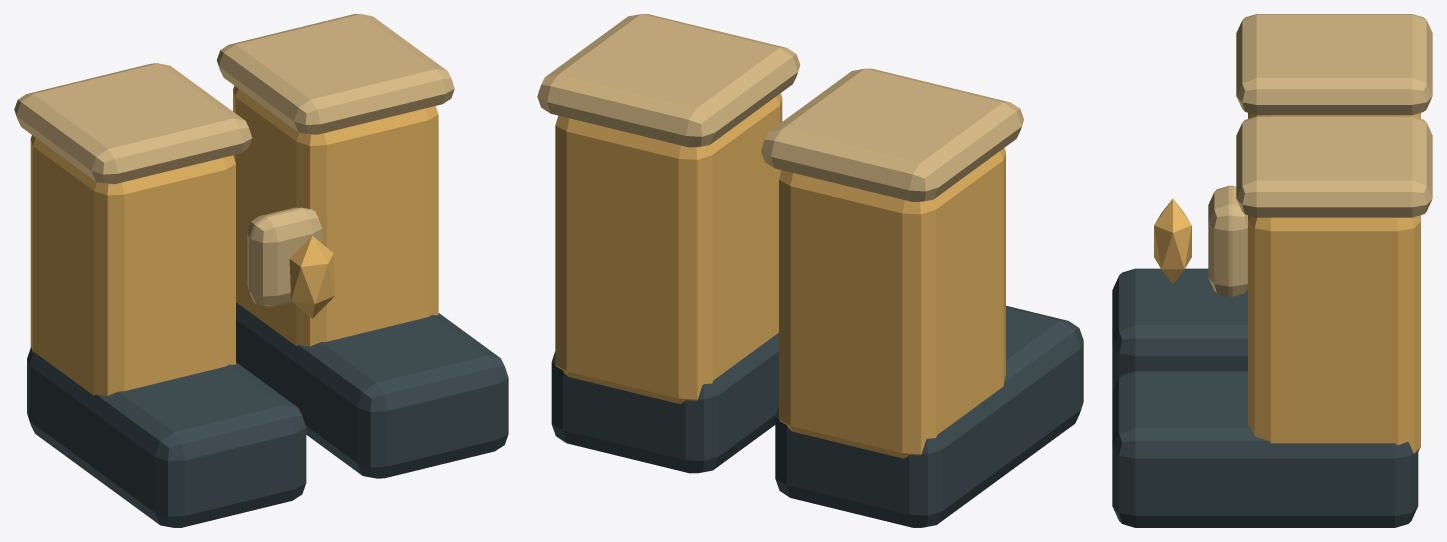
Rendered from arm_mercy_boots.glb.
3 views of the same model, side by side, from view 1: azimuth 30°, elevation 25°; view 2: azimuth 150°, elevation 25°; view 3: azimuth 270°, elevation 25° (orthographic). The views are drawn at different scales.
Visible parts, largest first — view 1: arm_mercy_boots; view 2: arm_mercy_boots; view 3: arm_mercy_boots.
Boxes of the visible parts, left/top/right/bottom form: arm_mercy_boots: left=14, top=14, right=508, bottom=527; arm_mercy_boots: left=537, top=14, right=1083, bottom=527; arm_mercy_boots: left=1112, top=14, right=1432, bottom=527.
Bounding box in the file's own units: 0.75 × 0.67 × 0.555.
